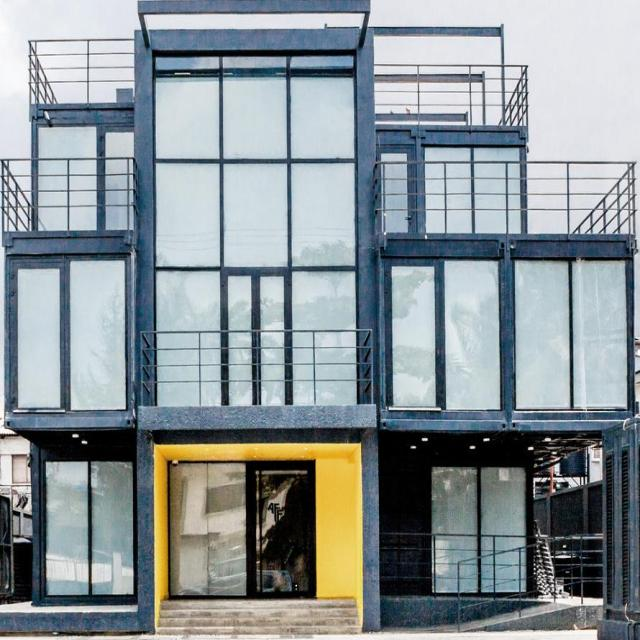Railing: (374, 163, 638, 232), (138, 332, 377, 407), (382, 532, 603, 598), (375, 61, 527, 130), (2, 160, 138, 228), (25, 40, 134, 101)
door: (244, 462, 317, 598), (222, 266, 292, 332)
wall: (0, 0, 639, 635)
windows: (152, 51, 358, 329), (168, 461, 316, 599), (512, 258, 631, 417), (11, 262, 130, 414), (387, 264, 503, 412), (44, 461, 131, 594), (434, 466, 524, 594)
